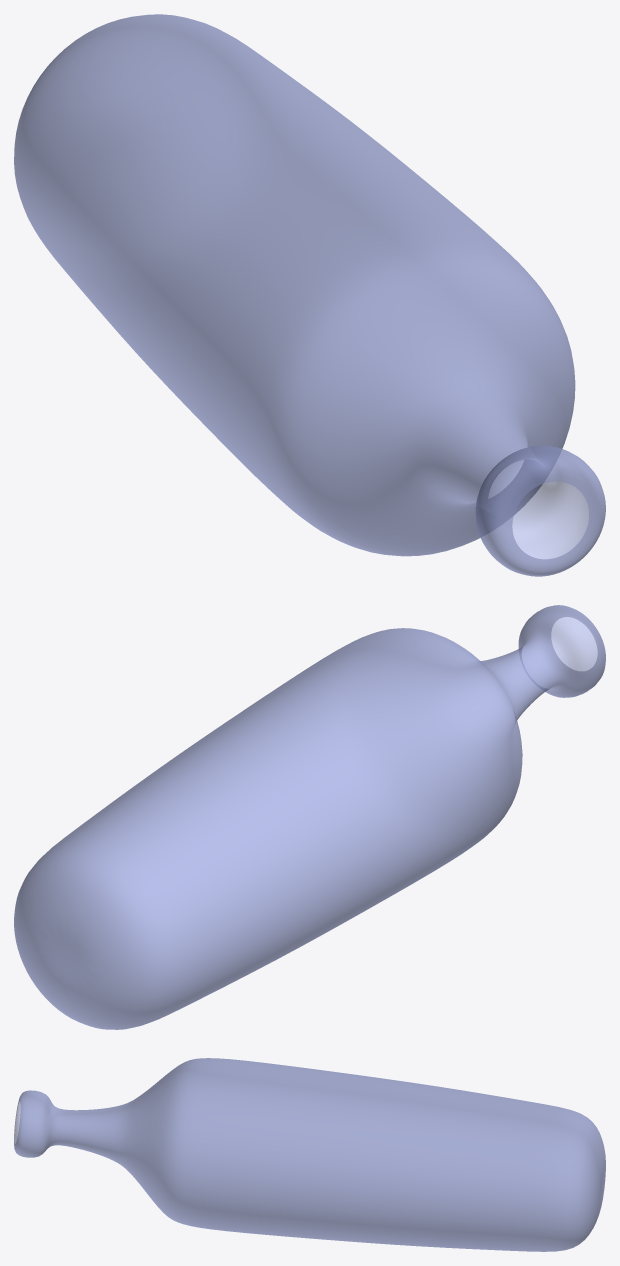
Rendered from Bottle_Blue.glb.
3 renders of one model, top to bottom at view 1: azimuth 30°, elevation 25°; view 2: azimuth 150°, elevation 25°; view 3: azimuth 270°, elevation 25°, orthographic. The views are drawn at different scales.
Parts seen in each view (by area): view 1: Bottle_Blue; view 2: Bottle_Blue; view 3: Bottle_Blue.
Boxes of the visible parts, <box> form: Bottle_Blue: <box>14,14,605,576</box>; Bottle_Blue: <box>14,605,605,1029</box>; Bottle_Blue: <box>14,1058,605,1251</box>.
Bounding box in the file's own units: 0.3713 × 0.32 × 1.07.
